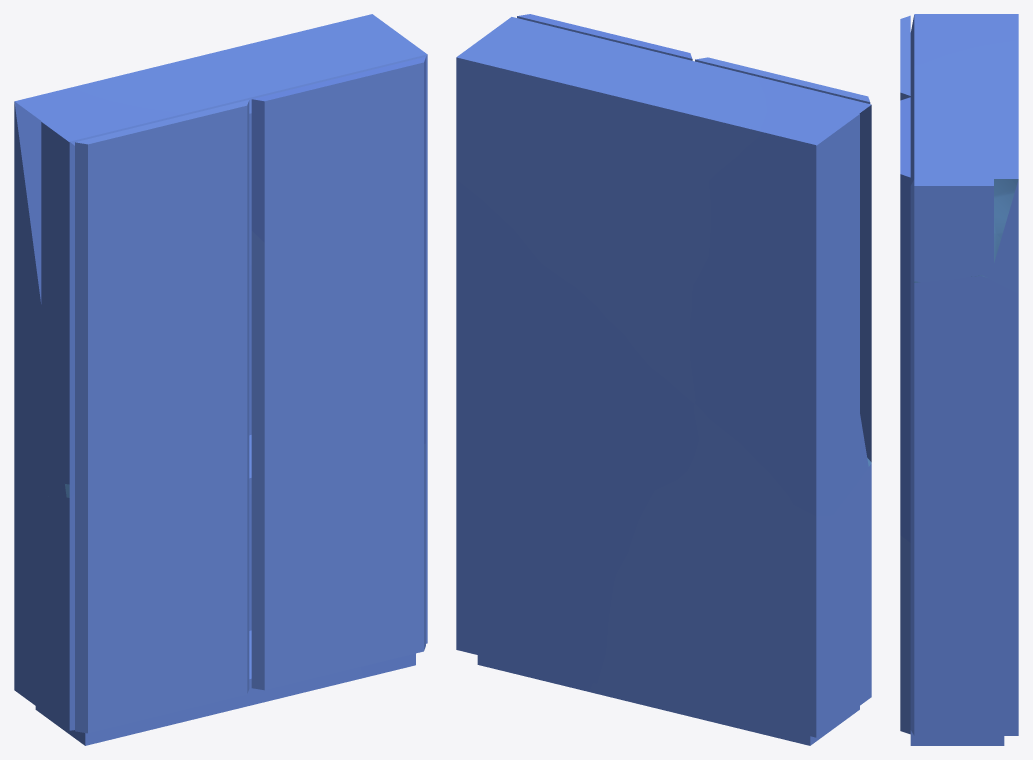
The model's file is locker3 break.fbx.
The picture shows the model from 3 angles, left to right: view 1: azimuth 30°, elevation 25°; view 2: azimuth 150°, elevation 25°; view 3: azimuth 270°, elevation 25°; orthographic projection. The views are drawn at different scales.
Parts seen in each view (by area): view 1: pasted__polySurface4_FRAC1, pasted__polySurface4_FRAC3, pasted__polySurface1_FRAC2, pasted__polySurface4_FRAC4, pasted__polySurface3_FRAC3, pasted__polySurface3_FRAC4, pasted__polySurface3_FRAC1, pasted__polySurface3_FRAC2; view 2: pasted__polySurface3_FRAC2, pasted__polySurface3_FRAC1, pasted__polySurface3_FRAC4, pasted__polySurface3_FRAC3, pasted__polySurface1_FRAC2, pasted__polySurface4_FRAC4; view 3: pasted__polySurface3_FRAC2, pasted__polySurface3_FRAC1, pasted__polySurface3_FRAC3, pasted__polySurface1_FRAC2, pasted__polySurface4_FRAC3, pasted__polySurface4_FRAC4.
Part boxes in pixels (left/top/right/bottom): pasted__polySurface4_FRAC1: left=75, top=135, right=249, bottom=733; pasted__polySurface4_FRAC3: left=251, top=231, right=425, bottom=690; pasted__polySurface1_FRAC2: left=251, top=56, right=425, bottom=443; pasted__polySurface4_FRAC4: left=103, top=100, right=249, bottom=562; pasted__polySurface3_FRAC3: left=14, top=88, right=183, bottom=497; pasted__polySurface3_FRAC4: left=14, top=446, right=363, bottom=745; pasted__polySurface3_FRAC1: left=70, top=14, right=427, bottom=266; pasted__polySurface3_FRAC2: left=249, top=164, right=427, bottom=677; pasted__polySurface3_FRAC2: left=456, top=179, right=699, bottom=691; pasted__polySurface3_FRAC1: left=456, top=17, right=766, bottom=403; pasted__polySurface3_FRAC4: left=590, top=404, right=871, bottom=745; pasted__polySurface3_FRAC3: left=689, top=77, right=871, bottom=516; pasted__polySurface1_FRAC2: left=517, top=14, right=692, bottom=60; pasted__polySurface4_FRAC4: left=695, top=57, right=849, bottom=96; pasted__polySurface3_FRAC2: left=910, top=275, right=1018, bottom=745; pasted__polySurface3_FRAC1: left=910, top=39, right=1018, bottom=292; pasted__polySurface3_FRAC3: left=910, top=14, right=1018, bottom=262; pasted__polySurface1_FRAC2: left=900, top=97, right=910, bottom=542; pasted__polySurface4_FRAC3: left=900, top=535, right=910, bottom=734; pasted__polySurface4_FRAC4: left=900, top=27, right=910, bottom=100.
Bounding box in the file's own units: 139 × 225 × 42.07.
1 material, 1 textured.
